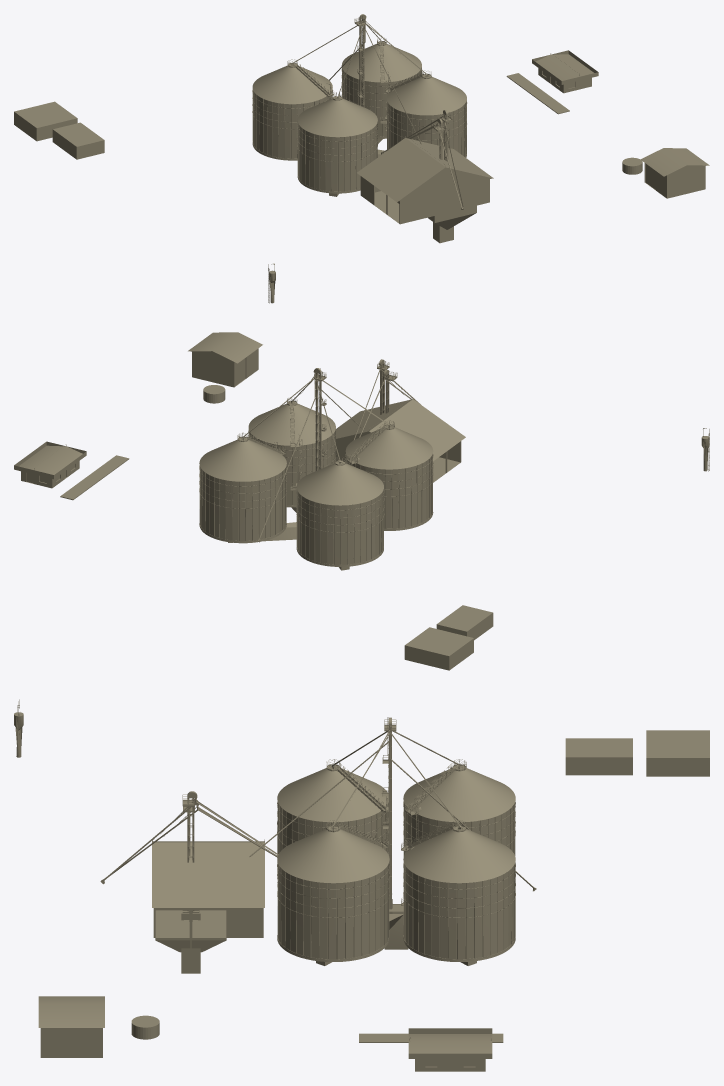
File: blockout.glb
3 views of the same model, one above another, from view 1: azimuth 30°, elevation 25°; view 2: azimuth 150°, elevation 25°; view 3: azimuth 270°, elevation 25° (orthographic). The views are drawn at different scales.
Parts seen in each view (by area): view 1: ED-01-roof-cad.001, SILO-03-zinc-cad.002, SILO-01-zinc-cad.002, ED-01-paint-cad.001, SILO-04-zinc-cad.002, SILO-03-roof-cad.002, SILO-04-roof-cad.002, SILO-01-roof-cad.002, SILO-02-roof-cad.002, SILO-02-zinc-cad.002, ED-02-concrete.001, ED-05-white-cad.001 (+8 smaller); view 2: SILO-01-zinc-cad.002, SILO-02-zinc-cad.002, SILO-03-zinc-cad.002, ED-01-roof-cad.001, SILO-01-roof-cad.002, SILO-02-roof-cad.002, SILO-03-roof-cad.002, SILO-04-roof-cad.002, ED-02-concrete.001, SILO-04-zinc-cad.002, ED-05-white-cad.001, ED-04-concrete-cad.001 (+5 smaller); view 3: SILO-04-zinc-cad.002, SILO-02-zinc-cad.002, ED-01-roof-cad.001, SILO-04-roof-cad.002, SILO-02-roof-cad.002, SILO-01-roof-cad.002, SILO-03-roof-cad.002, ED-02-concrete.001, ED-04-concrete-cad.001, ED-03-concrete.001, CAD-HOPPER-PITS-concrete-cad.001, SILO-01-zinc-cad.002 (+13 smaller).
Part boxes in pixels (left/top/right/bottom): ED-01-roof-cad.001: left=357, top=138, right=493, bottom=201; SILO-03-zinc-cad.002: left=297, top=122, right=377, bottom=193; SILO-01-zinc-cad.002: left=252, top=89, right=332, bottom=160; ED-01-paint-cad.001: left=360, top=176, right=489, bottom=224; SILO-04-zinc-cad.002: left=386, top=100, right=467, bottom=157; SILO-03-roof-cad.002: left=297, top=98, right=377, bottom=137; SILO-04-roof-cad.002: left=386, top=76, right=466, bottom=115; SILO-01-roof-cad.002: left=252, top=65, right=332, bottom=104; SILO-02-roof-cad.002: left=341, top=43, right=421, bottom=82; SILO-02-zinc-cad.002: left=341, top=67, right=421, bottom=138; ED-02-concrete.001: left=14, top=101, right=77, bottom=141; ED-05-white-cad.001: left=644, top=163, right=705, bottom=198; SILO-01-zinc-cad.002: left=296, top=489, right=384, bottom=566; SILO-02-zinc-cad.002: left=199, top=465, right=286, bottom=543; SILO-03-zinc-cad.002: left=345, top=454, right=433, bottom=530; ED-01-roof-cad.001: left=336, top=399, right=465, bottom=461; SILO-01-roof-cad.002: left=296, top=463, right=383, bottom=505; SILO-02-roof-cad.002: left=199, top=439, right=286, bottom=481; SILO-03-roof-cad.002: left=345, top=427, right=433, bottom=469; SILO-04-roof-cad.002: left=248, top=403, right=335, bottom=445; ED-02-concrete.001: left=404, top=627, right=473, bottom=670; SILO-04-zinc-cad.002: left=248, top=429, right=336, bottom=507; ED-05-white-cad.001: left=192, top=348, right=258, bottom=387; ED-04-concrete-cad.001: left=14, top=441, right=86, bottom=479; SILO-04-zinc-cad.002: left=277, top=862, right=389, bottom=961; SILO-02-zinc-cad.002: left=403, top=862, right=515, bottom=961; ED-01-roof-cad.001: left=152, top=841, right=264, bottom=907; SILO-04-roof-cad.002: left=277, top=828, right=389, bottom=883; SILO-02-roof-cad.002: left=403, top=828, right=515, bottom=883; SILO-01-roof-cad.002: left=403, top=767, right=515, bottom=822; SILO-03-roof-cad.002: left=277, top=767, right=388, bottom=822; ED-02-concrete.001: left=646, top=730, right=709, bottom=776; ED-04-concrete-cad.001: left=408, top=1028, right=492, bottom=1058; ED-03-concrete.001: left=565, top=738, right=632, bottom=775; CAD-HOPPER-PITS-concrete-cad.001: left=155, top=910, right=226, bottom=973; SILO-01-zinc-cad.002: left=403, top=801, right=515, bottom=878.
Size of the model in its own units: 128 by 44.92 by 116.
